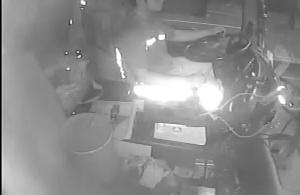paper: (151, 121, 208, 148)
